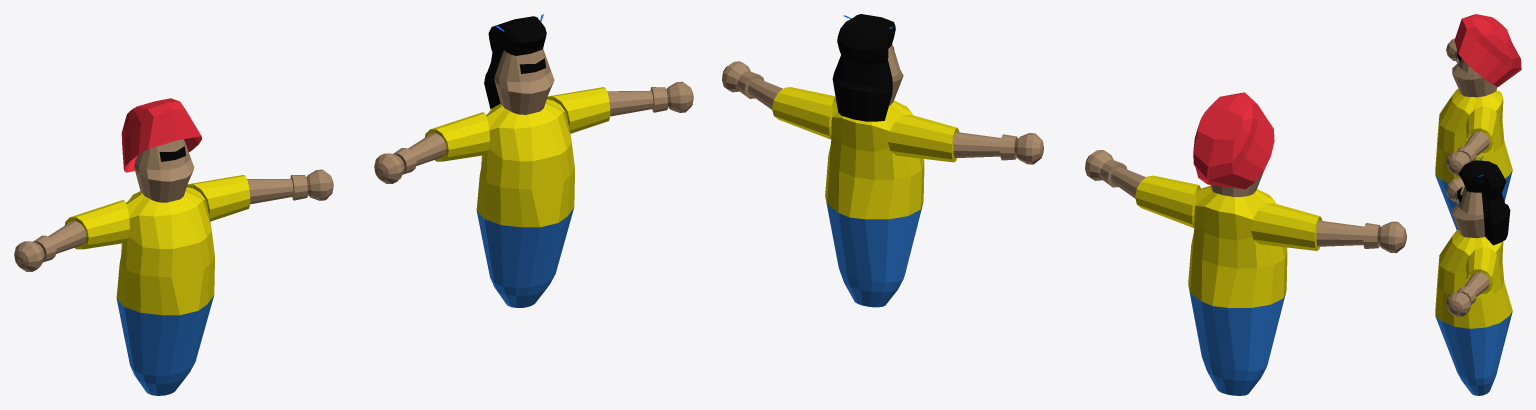
Rendered from Public UnRigged.fbx.
3 renders of one model, left to right at view 1: azimuth 30°, elevation 25°; view 2: azimuth 150°, elevation 25°; view 3: azimuth 270°, elevation 25°, orthographic. The views are drawn at different scales.
Visible parts, largest first — view 1: Public 2.001, Public 2.002; view 2: Public 2.001, Public 2.002; view 3: Public 2.002, Public 2.001.
Boxes of the visible parts, x1,y1,x2,y2 form: Public 2.001: (14, 98, 333, 395); Public 2.002: (374, 14, 693, 307); Public 2.001: (1085, 92, 1406, 395); Public 2.002: (722, 14, 1043, 307); Public 2.002: (1435, 156, 1512, 395); Public 2.001: (1435, 14, 1521, 229).
Size of the model in its own units: 14.31 by 5.9 by 1.97.
